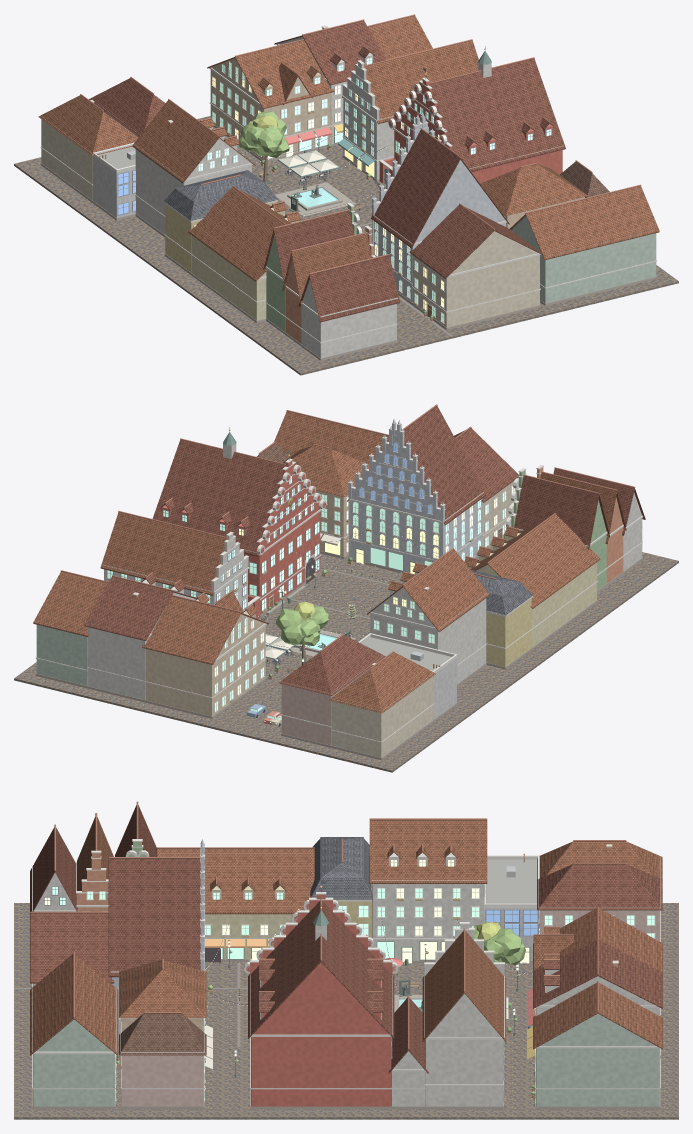
Rendered from fischerbrunnen.glb.
3 views of the same model, one above another, from view 1: azimuth 30°, elevation 25°; view 2: azimuth 150°, elevation 25°; view 3: azimuth 270°, elevation 25° (orthographic). The views are drawn at different scales.
Parts seen in each view (by area): view 1: Ground_Fischmarkt, B_E2_Rathaus, B_S4, B_S2, B_S0_Keimblatt, B_N1_Schuhhof, B_W3_Ernstings, B_W6_WeisserGiebel, B_E1_WeisserStaffelgiebel, B_W1_VeroModa, B_NW1, B_W2_Fellini (+10 smaller); view 2: Ground_Fischmarkt, B_E2_Rathaus, B_S0_Keimblatt, B_N1_Schuhhof, B_W1_VeroModa, B_W3_Ernstings, B_E1_WeisserStaffelgiebel, B_NW1, B_N2_Stadtbaeckerei, B_NW2, B_N3, B_W4_GruenerGiebel (+9 smaller); view 3: B_E2_Rathaus, Ground_Fischmarkt, B_W1_VeroModa, B_N3, B_E1_WeisserStaffelgiebel, B_S4, B_S0_Keimblatt, B_W3_Ernstings, B_S3, B_NW2, B_N2_Stadtbaeckerei, B_S1_GelbesHaus (+10 smaller).
Part boxes in pixels (x1,y1,x2,y2): Ground_Fischmarkt: [14, 116, 678, 375]; B_E2_Rathaus: [388, 46, 565, 183]; B_S4: [509, 184, 659, 305]; B_S2: [409, 203, 543, 329]; B_S0_Keimblatt: [371, 113, 509, 304]; B_N1_Schuhhof: [207, 39, 334, 161]; B_W3_Ernstings: [188, 185, 300, 322]; B_W6_WeisserGiebel: [298, 254, 399, 360]; B_E1_WeisserStaffelgiebel: [338, 39, 478, 181]; B_W1_VeroModa: [132, 99, 255, 237]; B_NW1: [38, 94, 138, 202]; B_W2_Fellini: [164, 170, 278, 274]; Ground_Fischmarkt: [14, 539, 678, 772]; B_E2_Rathaus: [152, 427, 326, 617]; B_S0_Keimblatt: [347, 404, 485, 573]; B_N1_Schuhhof: [142, 590, 268, 718]; B_W1_VeroModa: [367, 548, 489, 686]; B_W3_Ernstings: [464, 513, 600, 649]; B_E1_WeisserStaffelgiebel: [100, 511, 249, 611]; B_NW1: [329, 651, 435, 760]; B_N2_Stadtbaeckerei: [84, 572, 197, 702]; B_NW2: [276, 634, 385, 747]; B_N3: [33, 570, 108, 688]; B_W4_GruenerGiebel: [505, 468, 609, 593]; B_E2_Rathaus: [244, 880, 398, 1109]; Ground_Fischmarkt: [14, 903, 678, 1119]; B_W1_VeroModa: [369, 818, 487, 964]; B_N3: [531, 981, 662, 1109]; B_E1_WeisserStaffelgiebel: [422, 922, 506, 1109]; B_S4: [30, 951, 119, 1109]; B_S0_Keimblatt: [108, 839, 206, 1043]; B_W3_Ernstings: [156, 847, 314, 962]; B_S3: [119, 1012, 206, 1109]; B_NW2: [537, 862, 662, 941]; B_N2_Stadtbaeckerei: [527, 938, 662, 1064]; B_S1_GelbesHaus: [119, 959, 212, 1070].
Bounding box in the file's own units: 80 × 31.4 × 105.
Materials: 70 (21 with a texture image).
